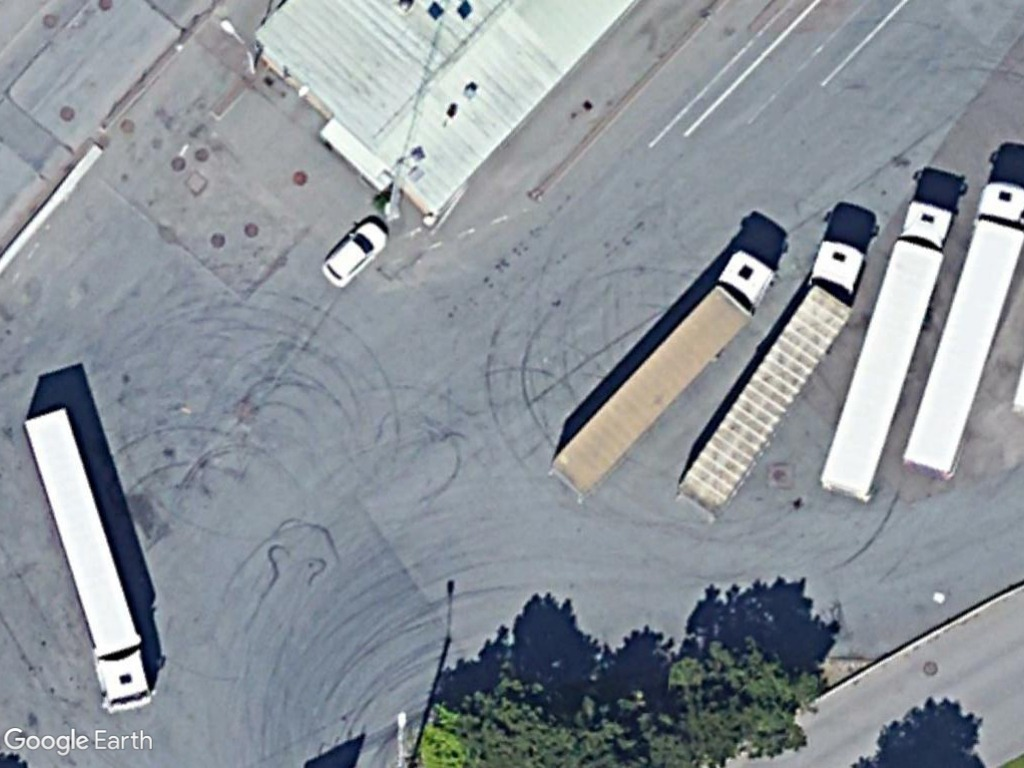car: (316, 206, 392, 292)
longvehicle: (537, 249, 780, 505), (674, 234, 871, 512), (807, 199, 960, 512), (18, 405, 160, 722), (900, 174, 1024, 477)
